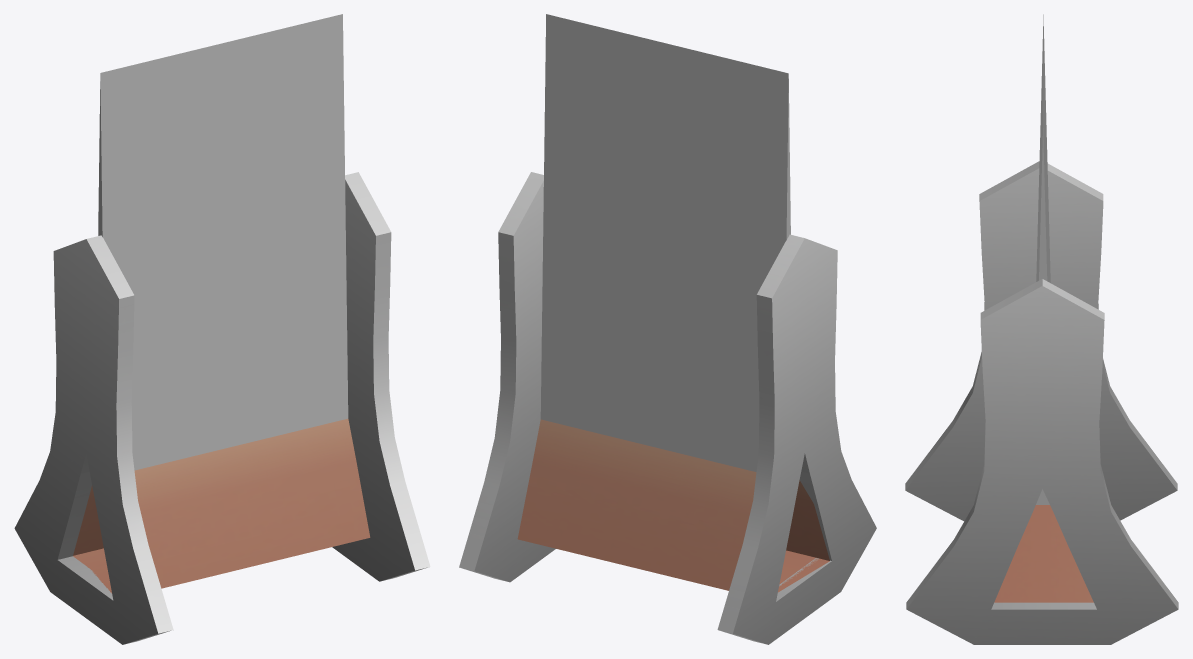
The model's file is SM_GroundSign_Bar.fbx.
3 views of the same model, side by side, from view 1: azimuth 30°, elevation 25°; view 2: azimuth 150°, elevation 25°; view 3: azimuth 270°, elevation 25° (orthographic). The views are drawn at different scales.
Parts seen in each view (by area): view 1: SM_GroundSign_Bar; view 2: SM_GroundSign_Bar; view 3: SM_GroundSign_Bar.
Part boxes in pixels (bbox=[...]): SM_GroundSign_Bar: bbox=[14, 14, 430, 644]; SM_GroundSign_Bar: bbox=[459, 14, 876, 644]; SM_GroundSign_Bar: bbox=[905, 14, 1178, 644].
Bounding box in the file's own units: 82.18 × 156 × 75.36.
